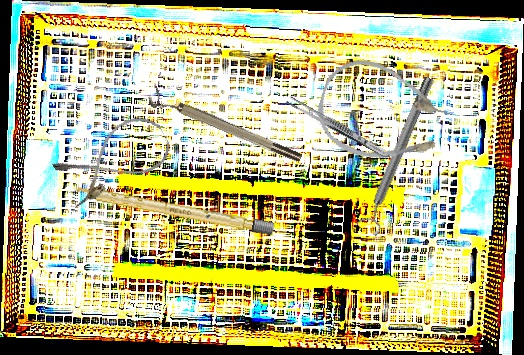Cannula: (307, 49, 461, 180), (50, 107, 177, 211)
Dressing Forceps: (284, 94, 393, 162)
Fixation Ring: (352, 73, 444, 237), (145, 85, 304, 171)
Scalpel Handle: (68, 183, 276, 236)
